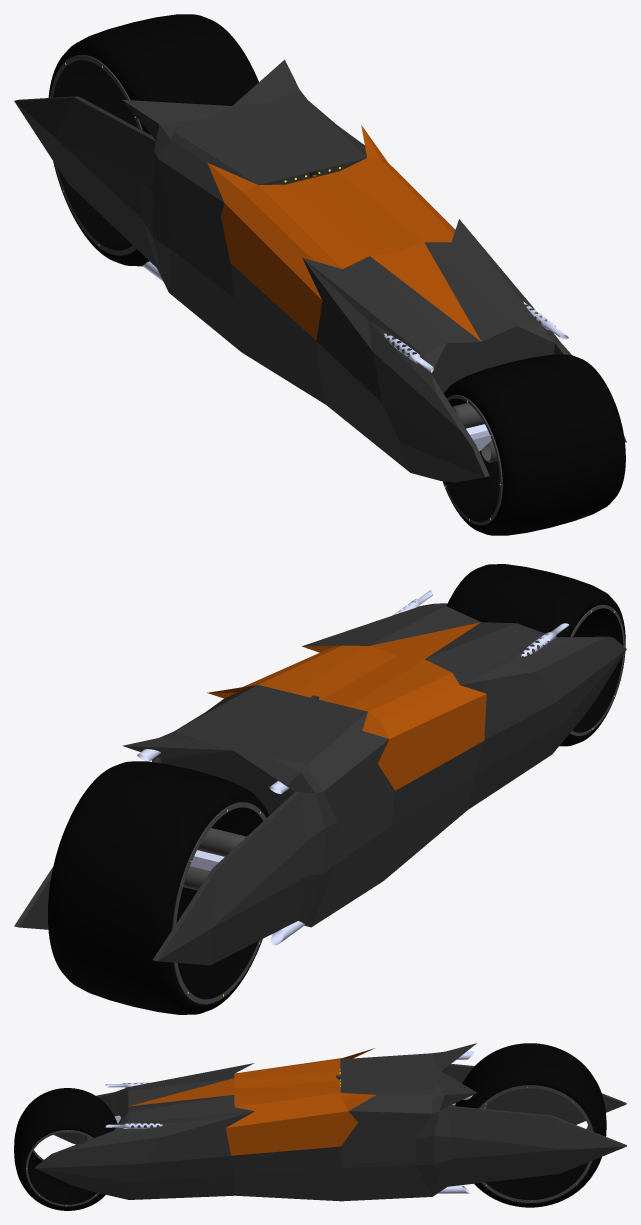
The model's file is Bike_P2.glb.
3 views of the same model, one above another, from view 1: azimuth 30°, elevation 25°; view 2: azimuth 150°, elevation 25°; view 3: azimuth 270°, elevation 25° (orthographic). The views are drawn at different scales.
Visible parts, largest first — view 1: Chassis, Tire_Front, Tire_Rear, Wheel_Well_Front.002, Guns, Wheel_Well_Front, Drive_Train_Cyl_F; view 2: Chassis, Tire_Rear, Tire_Front, Wheel_Well_Front.002, Drive_Train_Cyl_R, Exhausts, Guns; view 3: Chassis, Tire_Rear, Tire_Front, Wheel_Well_Front.002, Wheel_Well_Front, Guns, Exhausts.
Boxes of the visible parts, bbox=[...] form: Chassis: bbox=[14, 59, 626, 482]; Tire_Front: bbox=[442, 354, 625, 535]; Tire_Rear: bbox=[48, 14, 258, 266]; Wheel_Well_Front.002: bbox=[50, 55, 142, 255]; Guns: bbox=[384, 301, 568, 372]; Wheel_Well_Front: bbox=[443, 395, 502, 525]; Drive_Train_Cyl_F: bbox=[452, 403, 497, 462]; Chassis: bbox=[14, 603, 626, 965]; Tire_Rear: bbox=[48, 761, 269, 1014]; Tire_Front: bbox=[446, 564, 625, 746]; Wheel_Well_Front.002: bbox=[172, 802, 266, 1004]; Drive_Train_Cyl_R: bbox=[183, 828, 246, 890]; Exhausts: bbox=[137, 749, 304, 945]; Guns: bbox=[392, 590, 568, 656]; Chassis: bbox=[35, 1043, 626, 1201]; Tire_Rear: bbox=[455, 1043, 606, 1207]; Tire_Front: bbox=[14, 1088, 117, 1210]; Wheel_Well_Front.002: bbox=[479, 1085, 593, 1202]; Wheel_Well_Front: bbox=[26, 1130, 99, 1206]; Guns: bbox=[105, 1082, 162, 1128]; Exhausts: bbox=[438, 1051, 474, 1193].
Size of the model in its own units: 0.9789 by 1.21 by 4.74.
